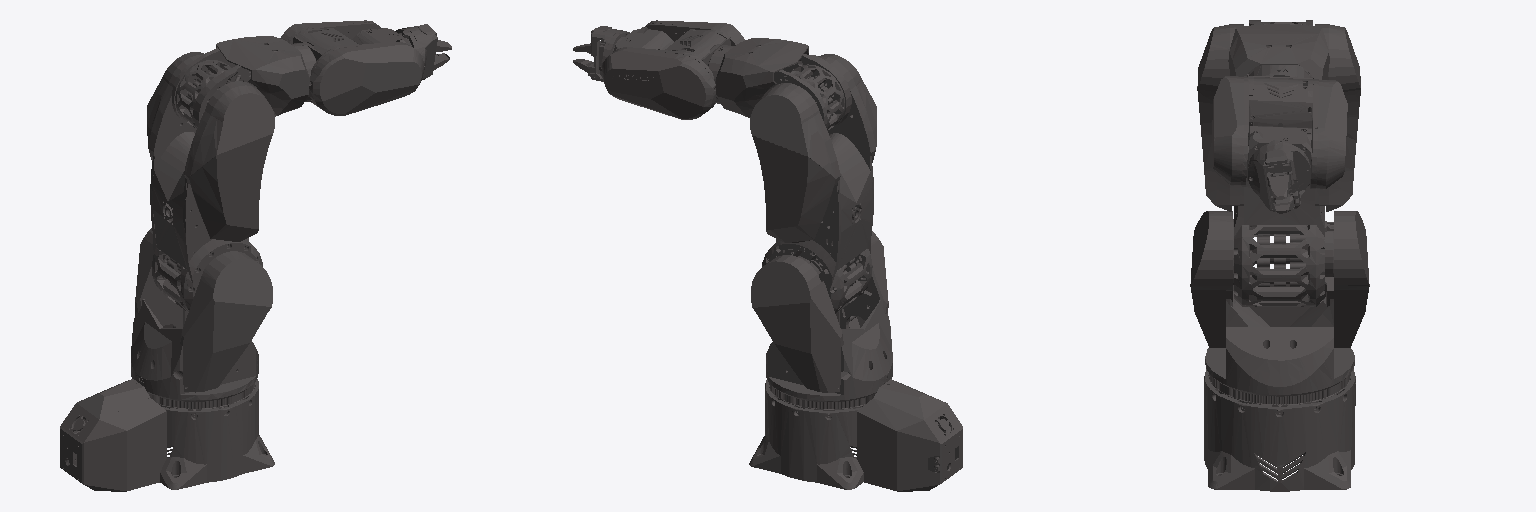
URDF robot description (onshape):
<?xml version="1.0"?>
<robot name="onshape">
<link name="arctos_base">
<visual>
<origin xyz="0.36446432317721999539 -0.050932388280227801347 0.01278915646413278373" rpy="1.5707963267948970021 -3.5898807087421401208e-32 0" />
<geometry>
<mesh filename="arctos_base.stl"/>
</geometry>
<material name="arctos_base_material">
<color rgba="0.36470588235294115753 0.34901960784313723618 0.34901960784313723618 1.0"/>
</material>
</visual>
<collision>
<origin xyz="0.36446432317721999539 -0.050932388280227801347 0.01278915646413278373" rpy="1.5707963267948970021 -3.5898807087421401208e-32 0" />
<geometry>
<mesh filename="arctos_base.stl"/>
</geometry>
</collision>
<inertial>
<origin xyz="-0.036190959675620582026 0.00020785040026151391235 0.068366067250913500897" rpy="0 0 0"/>
<mass value="1.0413378737551433062" />
<inertia ixx="0.0041148955809766915928" ixy="1.0348039067265013964e-05"  ixz="-0.00024546722757149916101" iyy="0.008014140699617509217" iyz="2.0104548488852764908e-05" izz="0.0091517727045413513332" />
</inertial>
</link>

<link name="arctos_lower">
<visual>
<origin xyz="-0.13500667682278003068 -0.67306761171977191882 0.21711684529782718234" rpy="-1.5707963267948970021 3.3896367021215351014e-32 1.3870680216142022316e-32" />
<geometry>
<mesh filename="arctos_lower.stl"/>
</geometry>
<material name="arctos_lower_material">
<color rgba="0.36470588235294115753 0.34901960784313723618 0.34901960784313723618 1.0"/>
</material>
</visual>
<collision>
<origin xyz="-0.13500667682278003068 -0.67306761171977191882 0.21711684529782718234" rpy="-1.5707963267948970021 3.3896367021215351014e-32 1.3870680216142022316e-32" />
<geometry>
<mesh filename="arctos_lower.stl"/>
</geometry>
</collision>
<inertial>
<origin xyz="0.0047448268972576090885 -0.00075818073811162445524 -0.068542518367652224831" rpy="0 0 0"/>
<mass value="1.4118318629235360184" />
<inertia ixx="0.0099867569287504509568" ixy="-1.6336903968690115241e-05"  ixz="0.00056899988327101063117" iyy="0.0085064618006165087366" iyz="-3.9895527683299233891e-05" izz="0.0074548597601912019658" />
</inertial>
</link>

<link name="arctos_middle">
<visual>
<origin xyz="-0.1558912631663369186 0.37483909607875859349 -0.35099752243260728957" rpy="3.1415926535896896432 2.4650827656672588928e-15 0" />
<geometry>
<mesh filename="arctos_middle.stl"/>
</geometry>
<material name="arctos_middle_material">
<color rgba="0.36470588235294115753 0.34901960784313723618 0.34901960784313723618 1.0"/>
</material>
</visual>
<collision>
<origin xyz="-0.1558912631663369186 0.37483909607875859349 -0.35099752243260728957" rpy="3.1415926535896896432 2.4650827656672588928e-15 0" />
<geometry>
<mesh filename="arctos_middle.stl"/>
</geometry>
</collision>
<inertial>
<origin xyz="-0.0077610876941956175035 -0.097207484813876990359 -0.0021039682733151598981" rpy="0 0 0"/>
<mass value="1.5722421951083009883" />
<inertia ixx="0.021007624959748037036" ixy="-0.00058118807975816475994"  ixz="-2.4174071959998562014e-06" iyy="0.0054104134634057826983" iyz="-0.0003553759374561382754" izz="0.019428304674691285886" />
</inertial>
</link>

<link name="arctos_upper">
<visual>
<origin xyz="0.14541909986832687873 0.6358457520286575626 0.1725104060293389252" rpy="3.1415926535897820138 -1.3127138500943399574e-29 0" />
<geometry>
<mesh filename="arctos_upper.stl"/>
</geometry>
<material name="arctos_upper_material">
<color rgba="0.36470588235294115753 0.34901960784313723618 0.34901960784313723618 1.0"/>
</material>
</visual>
<collision>
<origin xyz="0.14541909986832687873 0.6358457520286575626 0.1725104060293389252" rpy="3.1415926535897820138 -1.3127138500943399574e-29 0" />
<geometry>
<mesh filename="arctos_upper.stl"/>
</geometry>
</collision>
<inertial>
<origin xyz="0.042603881422939582357 -0.01318629926465652788 -0.0044323894721380041606" rpy="0 0 0"/>
<mass value="0.6272436456112834291" />
<inertia ixx="0.001098258435988238961" ixy="0.00034400596114381274283"  ixz="2.6714063061833948304e-05" iyy="0.0023035587444470715171" iyz="8.1998855604538040107e-07" izz="0.0024292434969864782138" />
</inertial>
</link>

<link name="wrist">
<visual>
<origin xyz="-6.4678609350145299661e-05 0.72728002374397204832 0.25480483554865324125" rpy="1.570796326794896558 1.5707963267948734654 0" />
<geometry>
<mesh filename="wrist.stl"/>
</geometry>
<material name="wrist_material">
<color rgba="0.36470588235294115753 0.34901960784313723618 0.34901960784313723618 1.0"/>
</material>
</visual>
<collision>
<origin xyz="-6.4678609350145299661e-05 0.72728002374397204832 0.25480483554865324125" rpy="1.570796326794896558 1.5707963267948734654 0" />
<geometry>
<mesh filename="wrist.stl"/>
</geometry>
</collision>
<inertial>
<origin xyz="0.00032712819674644941659 0.00088618839608645139094 -0.062634235193646026207" rpy="0 0 0"/>
<mass value="0.56700886652075166428" />
<inertia ixx="0.0017224011616626441323" ixy="-3.2378532134891983274e-06"  ixz="2.2423365243662443846e-06" iyy="0.0025275429458428504657" iyz="4.2700358274835239228e-06" izz="0.001648434838453803836" />
</inertial>
</link>

<link name="gripper_assembly_inner">
<visual>
<origin xyz="-0.69122919913551117421 0.89850565816919669704 -0.00030917413090954595778" rpy="1.5707963267948501507 3.0026328645682553997e-14 0" />
<geometry>
<mesh filename="gripper_assembly_inner.stl"/>
</geometry>
<material name="gripper_assembly_inner_material">
<color rgba="0.36470588235294115753 0.34901960784313723618 0.34901960784313723618 1.0"/>
</material>
</visual>
<collision>
<origin xyz="-0.69122919913551117421 0.89850565816919669704 -0.00030917413090954595778" rpy="1.5707963267948501507 3.0026328645682553997e-14 0" />
<geometry>
<mesh filename="gripper_assembly_inner.stl"/>
</geometry>
</collision>
<inertial>
<origin xyz="0.011020965697441820197 0.00094154436931925822307 -1.0948328466343516317e-05" rpy="0 0 0"/>
<mass value="0.19463214953987617584" />
<inertia ixx="0.00019075093016280274" ixy="-2.9969127833516304256e-06"  ixz="1.3261955499520421142e-06" iyy="0.00018053572959174157353" iyz="-7.0780456099494379549e-07" izz="0.00013669039010845556999" />
</inertial>
</link>

<link name="gripper_assembly_outer">
<visual>
<origin xyz="-0.00030917413082717781769 0.72550565816917211848 0.77006421831530924571" rpy="1.570796326794896558 1.5707963267948108488 0" />
<geometry>
<mesh filename="gripper_assembly_outer.stl"/>
</geometry>
<material name="gripper_assembly_outer_material">
<color rgba="0.36470588235294115753 0.34901960784313723618 0.34901960784313723618 1.0"/>
</material>
</visual>
<collision>
<origin xyz="-0.00030917413082717781769 0.72550565816917211848 0.77006421831530924571" rpy="1.570796326794896558 1.5707963267948108488 0" />
<geometry>
<mesh filename="gripper_assembly_outer.stl"/>
</geometry>
</collision>
<inertial>
<origin xyz="0.0023078548156734955688 0.0015298518696794660698 -0.014904895190532396754" rpy="0 0 0"/>
<mass value="0.13208625646334956616" />
<inertia ixx="7.3099317201127627492e-05" ixy="-4.3535423704887063263e-07"  ixz="1.4020744687041522689e-06" iyy="5.3011901725088414982e-05" iyz="2.0558618122064588241e-06" izz="9.2782765523292997159e-05" />
</inertial>
</link>

<link name="left_jaw">
<visual>
<origin xyz="-0.93730780726064277797 0.011449734339888259504 -0.85360877917690336503" rpy="4.7184478546569162829e-16 -4.1633363423443360405e-16 -1.7347234759768067092e-18" />
<geometry>
<mesh filename="left_jaw.stl"/>
</geometry>
<material name="left_jaw_material">
<color rgba="0.36470588235294115753 0.34901960784313723618 0.34901960784313723618 1.0"/>
</material>
</visual>
<collision>
<origin xyz="-0.93730780726064277797 0.011449734339888259504 -0.85360877917690336503" rpy="4.7184478546569162829e-16 -4.1633363423443360405e-16 -1.7347234759768067092e-18" />
<geometry>
<mesh filename="left_jaw.stl"/>
</geometry>
</collision>
<inertial>
<origin xyz="0.0096515875393935468551 0.0085641264668806262039 -0.0093615856526801932702" rpy="0 0 0"/>
<mass value="0.0104625931880081742" />
<inertia ixx="9.2962831781350460697e-07" ixy="-2.4644848607999935056e-07"  ixz="5.5626744662579595247e-08" iyy="1.571823870495268752e-06" iyz="-6.4619821813408840968e-08" izz="1.992768184453007196e-06" />
</inertial>
</link>

<link name="right_jaw">
<visual>
<origin xyz="-0.93738987107128246556 0.0080497863765595645269 0.79405722866396966086" rpy="-3.1415926535897926719 3.747002708109903817e-16 -1.7347234759768074796e-18" />
<geometry>
<mesh filename="right_jaw.stl"/>
</geometry>
<material name="right_jaw_material">
<color rgba="0.36470588235294115753 0.34901960784313723618 0.34901960784313723618 1.0"/>
</material>
</visual>
<collision>
<origin xyz="-0.93738987107128246556 0.0080497863765595645269 0.79405722866396966086" rpy="-3.1415926535897926719 3.747002708109903817e-16 -1.7347234759768074796e-18" />
<geometry>
<mesh filename="right_jaw.stl"/>
</geometry>
</collision>
<inertial>
<origin xyz="0.0098782530285080882848 0.0083977308091668333156 -0.0093704955663523881171" rpy="0 0 0"/>
<mass value="0.010168042155151081618" />
<inertia ixx="8.1863262306155616526e-07" ixy="-1.4294311148962495056e-07"  ixz="5.6910197664185491415e-08" iyy="1.5153751895386130304e-06" iyz="-6.6817746618915091216e-08" izz="1.8599601659645511485e-06" />
</inertial>
</link>


<joint name="outer_inner" type="revolute">
<origin xyz="0.039835445112786860289 -2.2204460492503130808e-15 -3.6776137690708310402e-15" rpy="-1.5707963267949791586 1.3778210289552164092 1.5707963267947004926" />
<parent link="gripper_assembly_inner" />
<child link="gripper_assembly_outer" />
<axis xyz="0 0 1"/>
<limit effort="12" velocity="20" lower="-3.4906585039886590671" upper="3.4906585039886590671"/>
<joint_properties friction="0.0"/>
</joint>

<joint name="inner_wrist" type="revolute">
<origin xyz="0.00021854809329471813761 0.0017743655747750608498 -0.12542436358686440134" rpy="-6.9874661612348195789e-15 1.5707963267948850117 0" />
<parent link="wrist" />
<child link="gripper_assembly_inner" />
<axis xyz="0 0 1"/>
<limit effort="12" velocity="20" lower="-1.6580627893946131568" upper="1.6580627893946131568"/>
<joint_properties friction="0.0"/>
</joint>

<joint name="wrist_upper" type="revolute">
<origin xyz="0.13874345514589062067 -0.021748655380295134343 -0.0054925270810687130268" rpy="-1.5707963267948807928 -1.5245022596773765144 1.5688068046258516475" />
<parent link="arctos_upper" />
<child link="wrist" />
<axis xyz="0 0 1"/>
<limit effort="12" velocity="20" lower="-3.2288591161895094928" upper="3.2288591161895094928"/>
<joint_properties friction="0.0"/>
</joint>

<joint name="upper_middle" type="revolute">
<origin xyz="-0.0013103630346719770308 -0.26100665594985539286 0.0054290868549383020786" rpy="-1.0765344187740975265e-13 8.1164530008389699728e-15 0.0040744247603443310007" />
<parent link="arctos_middle" />
<child link="arctos_upper" />
<axis xyz="0 0 1"/>
<limit effort="12" velocity="20" lower="-1.8325957145940461324" upper="0.87266462599716476678"/>
<joint_properties friction="0.0"/>
</joint>

<joint name="middle_lower" type="revolute">
<origin xyz="0.020885040968205974277 0.00086987140237410553144 -0.15772234492155495778" rpy="1.5707963267950006969 -0.06504782007281141587 1.5951947608009762544e-16" />
<parent link="arctos_lower" />
<child link="arctos_middle" />
<axis xyz="0 0 1"/>
<limit effort="12" velocity="20" lower="-1.3089969389957472057" upper="2.356194490192344837"/>
<joint_properties friction="0.0"/>
</joint>

<joint name="lower_base" type="revolute">
<origin xyz="-0.00052900000000000169109 0 0.12990600176195876703" rpy="-3.1415926535897926719 2.4377752293772548502e-17 1.4977683394279026321e-14" />
<parent link="arctos_base" />
<child link="arctos_lower" />
<axis xyz="0 0 1"/>
<limit effort="12" velocity="20" lower="-6.283185307179586232" upper="6.283185307179586232"/>
<joint_properties friction="0.0"/>
</joint>

<joint name="slide_left" type="prismatic">
<origin xyz="-0.012068082601611365701 -0.029103138881718670916 -0.040243588945377273269" rpy="1.5707963267948992225 1.5707963267948146235 0" />
<parent link="gripper_assembly_outer" />
<child link="left_jaw" />
<axis xyz="0 0 1"/>
<limit effort="12" velocity="20" lower="-0.015" upper="0.0"/>
<joint_properties friction="0.0"/>
</joint>


<joint name="slide_right" type="prismatic">
<origin xyz="0.0074314381148364444529 0.015896861565316222631 -0.040325652756017238421" rpy="-1.5707963267948970021 1.5707963267948092945 0" />
<parent link="gripper_assembly_outer" />
<child link="right_jaw" />
<axis xyz="0 0 1"/>
<limit effort="12" velocity="20" lower="0.0" upper="0.015"/>
<joint_properties friction="0.0"/>
<mimic joint="slide_left"/>
</joint>
</robot>

--- Facts derived from the render (not from the file) ---
The picture shows the robot from 3 angles, left to right: view 1: azimuth 30°, elevation 25°; view 2: azimuth 150°, elevation 25°; view 3: azimuth 270°, elevation 25°; orthographic projection.
Model onshape with 9 links and 8 joints (6 revolute, 2 prismatic), rooted at arctos_base, posed every joint at zero.
Visible links, largest first — view 1: arctos_middle, arctos_base, arctos_lower, wrist, arctos_upper, gripper_assembly_outer, gripper_assembly_inner; view 2: arctos_middle, arctos_base, arctos_lower, wrist, arctos_upper, gripper_assembly_outer, gripper_assembly_inner; view 3: arctos_lower, arctos_middle, arctos_base, wrist, arctos_upper, gripper_assembly_outer, gripper_assembly_inner, right_jaw.
Boxes of the visible links, left/top/right/bottom form: arctos_middle: left=147, top=52, right=274, bottom=312; arctos_base: left=60, top=379, right=274, bottom=491; arctos_lower: left=131, top=228, right=272, bottom=409; wrist: left=280, top=20, right=423, bottom=115; arctos_upper: left=172, top=36, right=315, bottom=128; gripper_assembly_outer: left=395, top=24, right=437, bottom=79; gripper_assembly_inner: left=352, top=28, right=410, bottom=45; arctos_middle: left=750, top=54, right=876, bottom=313; arctos_base: left=749, top=379, right=962, bottom=491; arctos_lower: left=751, top=231, right=892, bottom=409; wrist: left=602, top=20, right=744, bottom=119; arctos_upper: left=708, top=38, right=851, bottom=130; gripper_assembly_outer: left=590, top=26, right=629, bottom=81; gripper_assembly_inner: left=613, top=27, right=673, bottom=51; arctos_lower: left=1190, top=211, right=1369, bottom=405; arctos_middle: left=1197, top=24, right=1360, bottom=306; arctos_base: left=1204, top=369, right=1355, bottom=491; wrist: left=1212, top=75, right=1347, bottom=189; arctos_upper: left=1228, top=20, right=1329, bottom=79; gripper_assembly_outer: left=1248, top=140, right=1310, bottom=211; gripper_assembly_inner: left=1247, top=126, right=1311, bottom=189; right_jaw: left=1267, top=171, right=1293, bottom=199.
Size in the robot's own frame: 0.6224 by 0.2175 by 0.6128 metres.
Meshes: 9 distinct files referenced, 9 mesh visuals loaded (9 binary STL).
